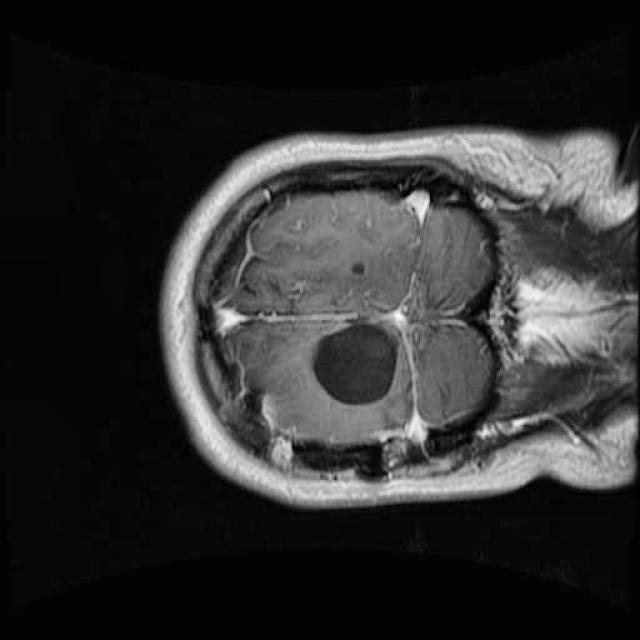Tumor: (303, 310, 409, 416)
